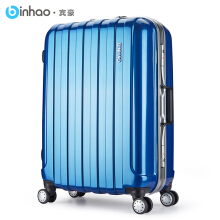suitcase: (37, 13, 180, 216)
